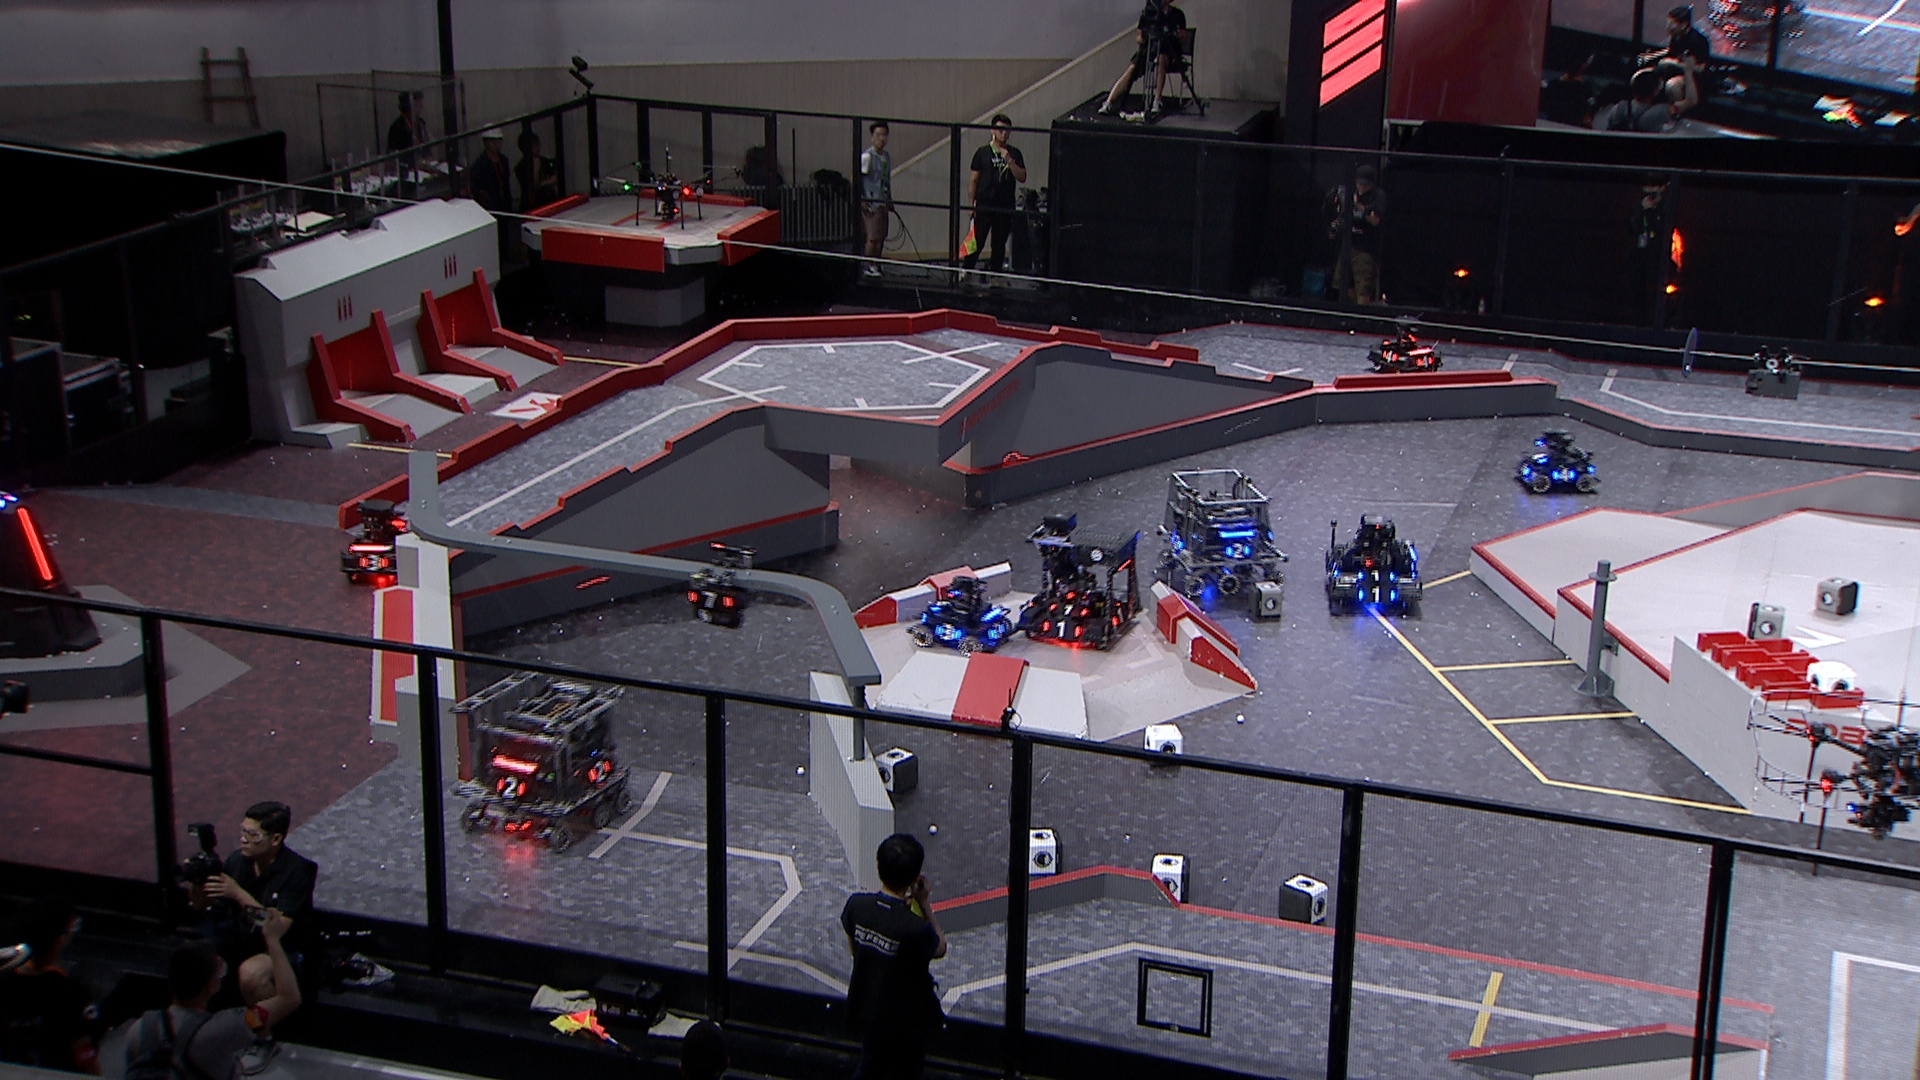armor: (16, 501, 53, 583), (684, 585, 731, 609), (1043, 621, 1081, 640), (1360, 585, 1396, 604), (495, 775, 526, 796), (932, 622, 961, 644), (359, 553, 389, 572), (1358, 567, 1396, 582), (589, 757, 609, 783), (1050, 603, 1084, 617), (1222, 543, 1249, 560), (1553, 465, 1575, 483), (1110, 608, 1129, 626), (1168, 533, 1185, 553), (986, 622, 1007, 638), (1381, 345, 1399, 363), (1531, 448, 1548, 465), (930, 597, 953, 609), (1415, 352, 1432, 367), (1515, 462, 1532, 476), (1327, 559, 1338, 578)
car: (446, 665, 633, 847), (1153, 462, 1283, 618), (1015, 512, 1139, 651), (1325, 509, 1425, 617), (906, 570, 1007, 659), (334, 498, 425, 585), (1506, 422, 1604, 495), (1366, 309, 1441, 373)
watcher: (678, 542, 760, 632)
